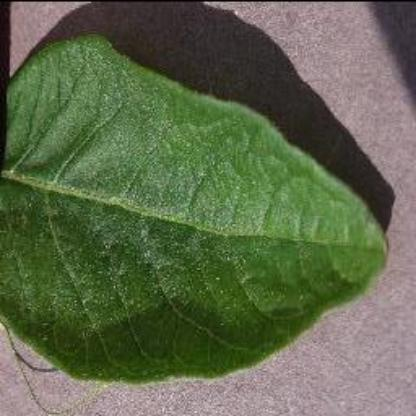Healthy-plant: (0, 27, 400, 387)
